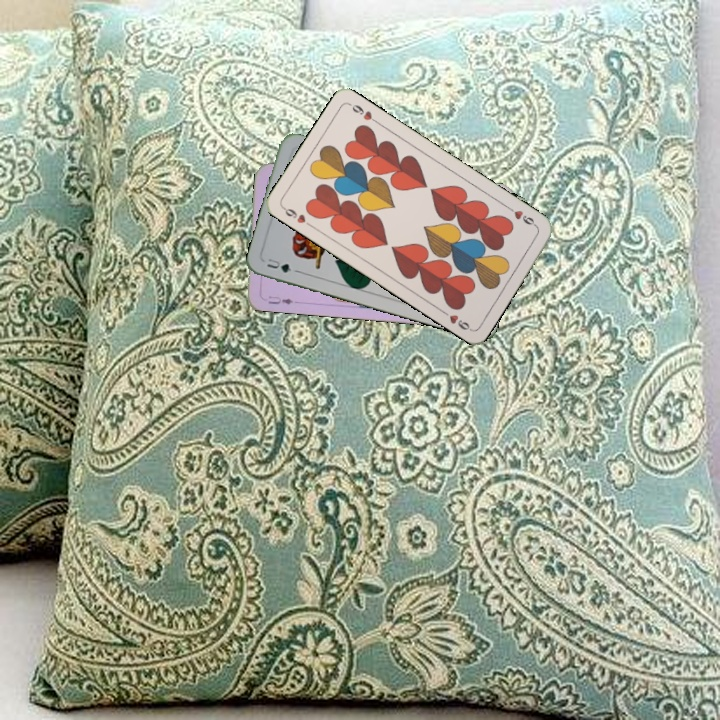EU: (264, 292, 296, 307)
GU: (263, 254, 300, 275)
H9: (278, 203, 315, 230), (503, 203, 540, 230)
